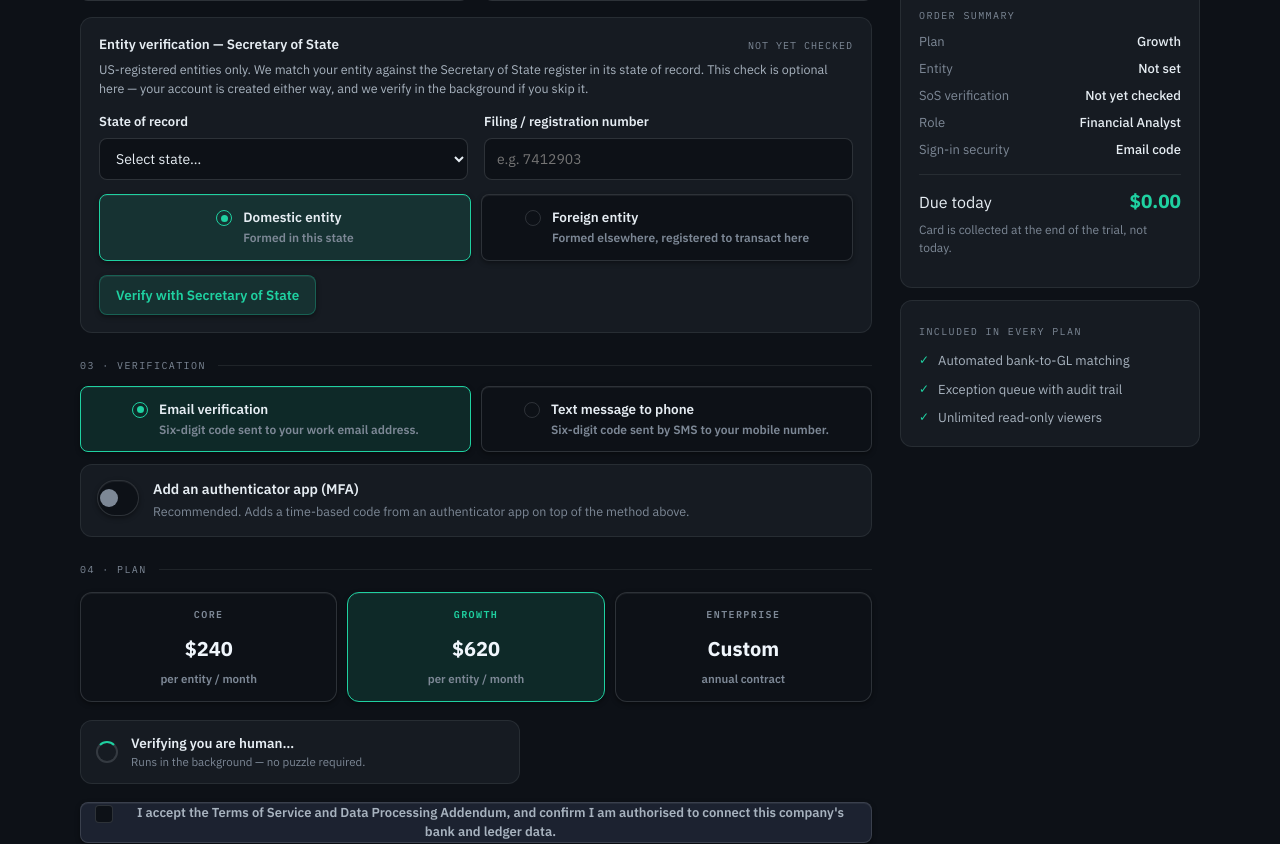
Scenario: field validation notes › leaves the phone note blank when optional and empty, but requires it once SMS is selected
(page scrolled)
Expected: the text "mobile number is required" is not shown
Click the button "Text message to phone". click: (676, 419)
box: [481,386,872,452]
(page scrolled)
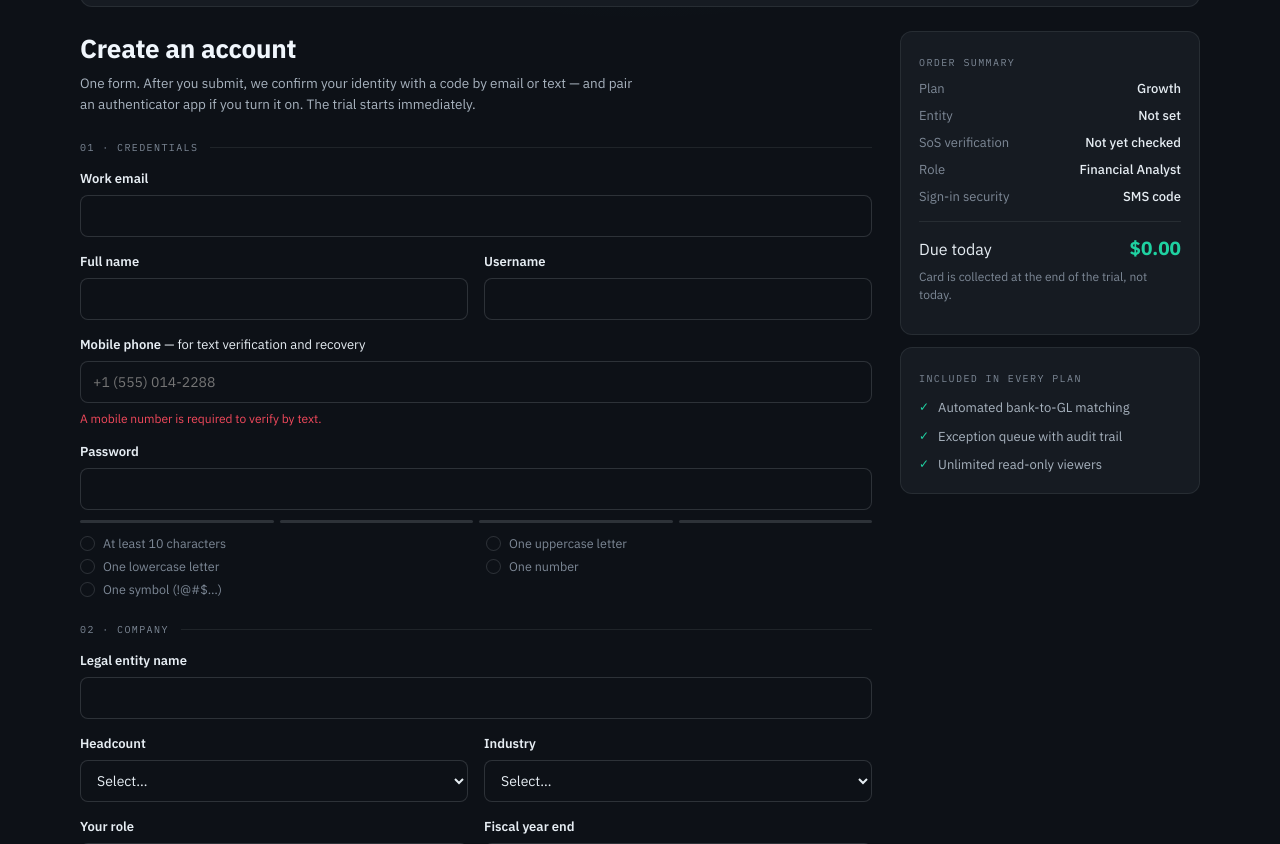
Expected: the text "A mobile number is required to verify by text." is shown, [80,411,322,426]
